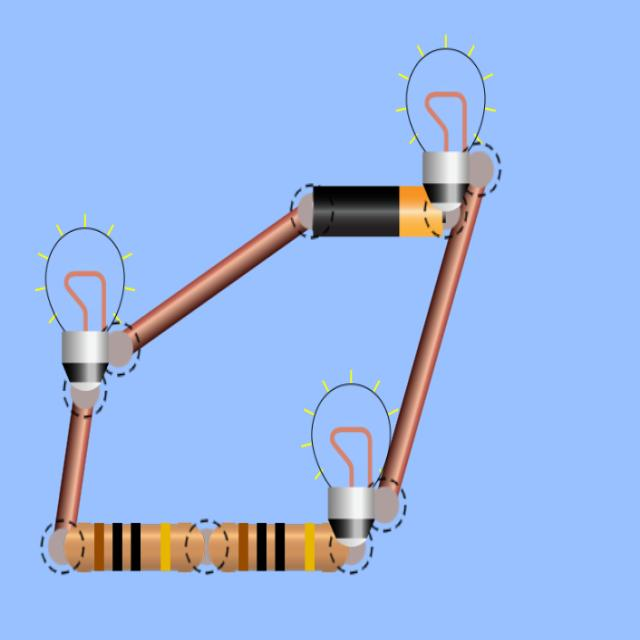Battery: (312, 187, 442, 237)
Light Bulb: (44, 226, 126, 408), (405, 45, 488, 212), (312, 382, 391, 546)
Resistor: (209, 524, 349, 572), (65, 524, 204, 572)
Wire: (380, 185, 483, 495), (125, 210, 306, 352), (55, 404, 92, 529)
